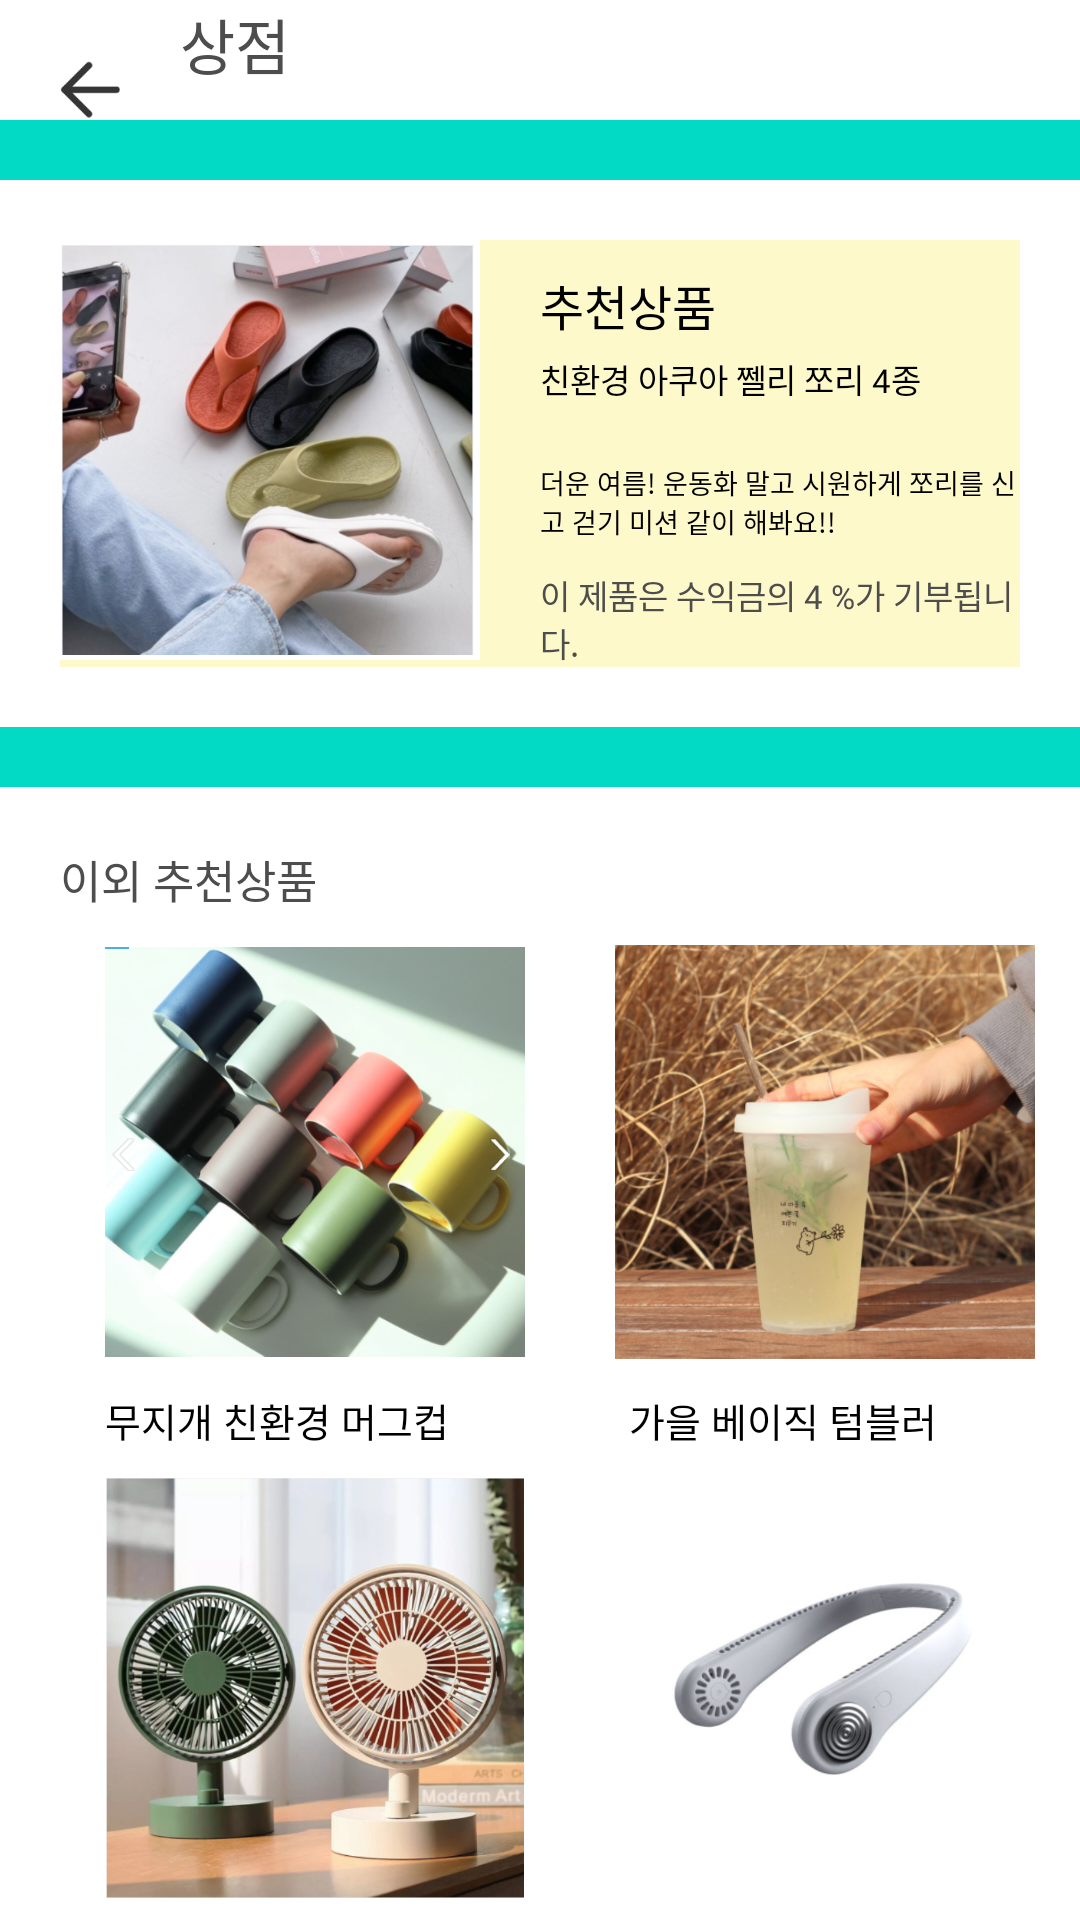

Named icons in this screenshot (1080×1920) and their bounding boxes, (x1, y1, x2, y2):
backbutton: (61, 61, 120, 118)
fourth product: (674, 1583, 966, 1775)
